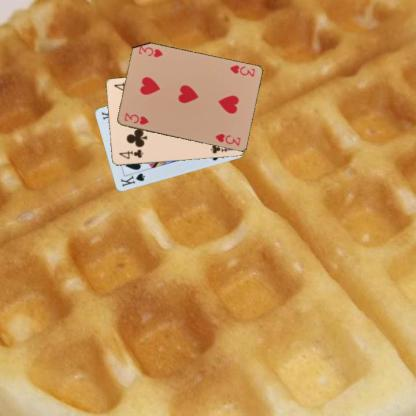3h: (121, 110, 150, 126), (227, 63, 256, 78)
4c: (116, 146, 145, 160)
Ks: (118, 171, 146, 188)
